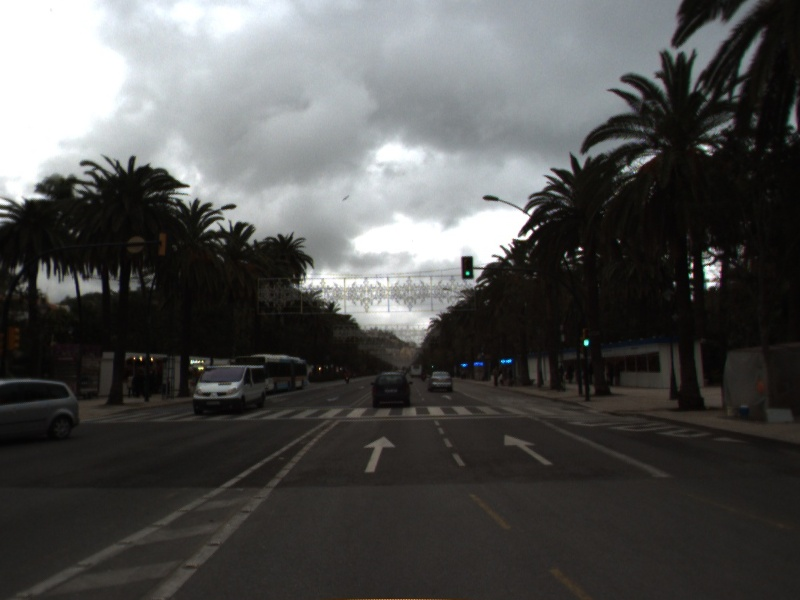STRAIGHT: (501, 432, 556, 467), (361, 434, 398, 475), (440, 392, 454, 401)
